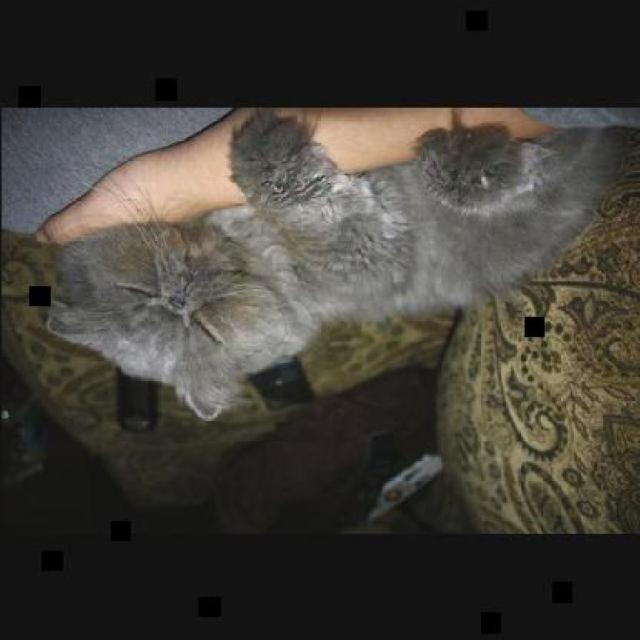unauthorized: (41, 108, 638, 422)
